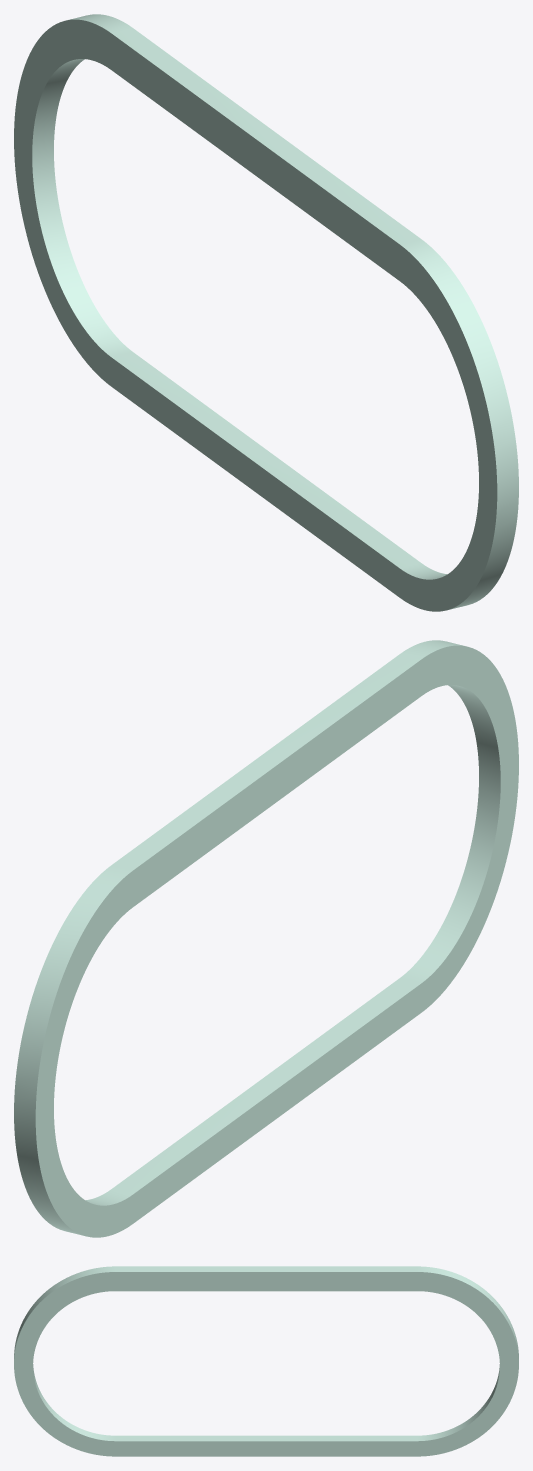
The picture shows the model from 3 angles, top to bottom: view 1: azimuth 30°, elevation 25°; view 2: azimuth 150°, elevation 25°; view 3: azimuth 270°, elevation 25°; orthographic projection. The views are drawn at different scales.
Parts seen in each view (by area): view 1: Renderer Node; view 2: Renderer Node; view 3: Renderer Node.
Part boxes in pixels (left/top/right/bottom): Renderer Node: left=14, top=14, right=518, bottom=611; Renderer Node: left=14, top=640, right=518, bottom=1237; Renderer Node: left=14, top=1266, right=518, bottom=1456.
Size of the model in its own units: 0.0391 by 0.6079 by 1.51.
